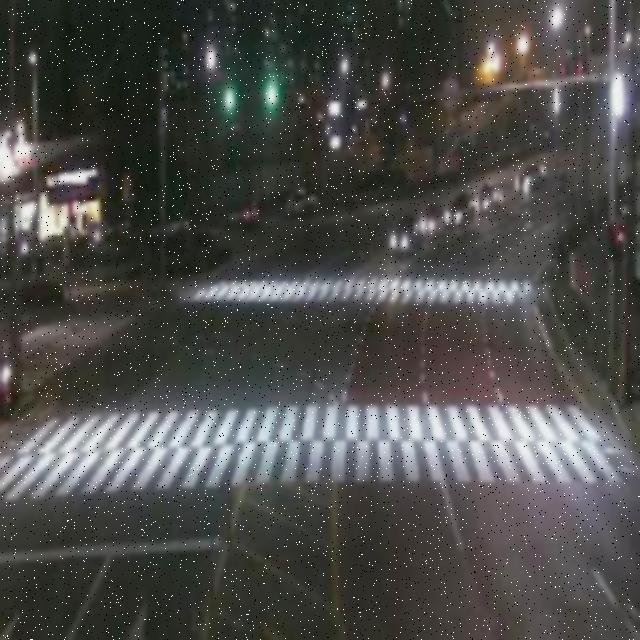Pedestrian crosswalk: (1, 392, 621, 523), (188, 272, 537, 304)
